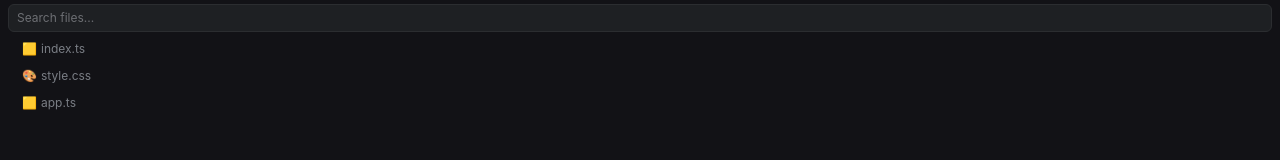
Scenario: FileList — search filter › search filter hides non-matching files
The width and height of the screenshot is (1280, 160).
Expected: the text "index.ts" is shown, left=41, top=41, right=85, bottom=56
Type "app" into the field with placeholder "Search files...".
click(640, 18); type("app")  # box left=8, top=4, right=1272, bottom=32
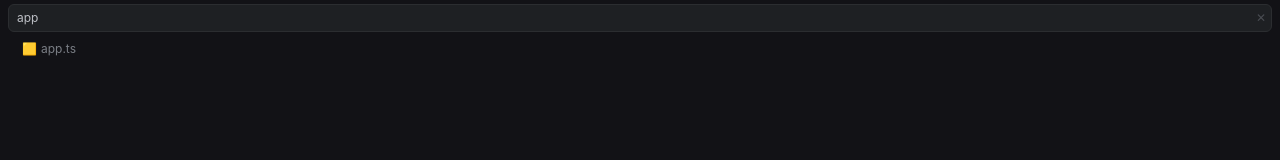
Expected: the text "app.ts" is shown, left=41, top=41, right=76, bottom=56
Expected: the text "index.ts" is gone
Expected: the text "style.css" is gone
